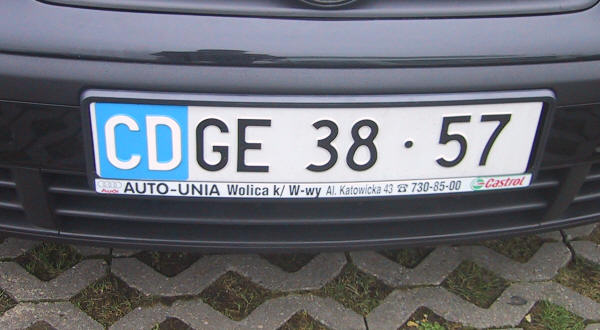license_plate: (87, 98, 546, 183)
